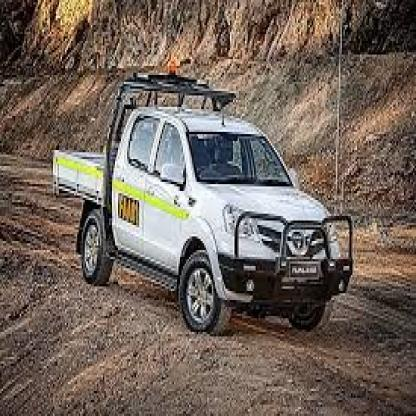light_vehicle: (44, 68, 354, 332)
